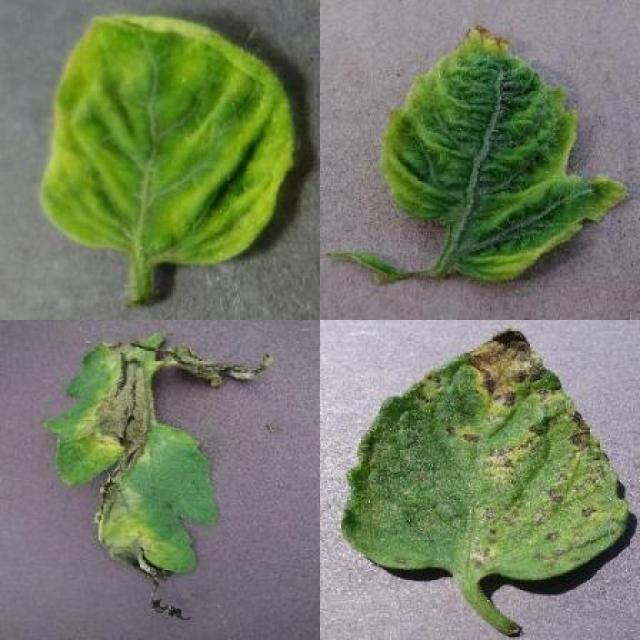Late Blight: (45, 330, 272, 623)
Septoria: (338, 323, 632, 578)
Yellow Leaf Curl Virus: (382, 22, 634, 284), (38, 15, 296, 264)
